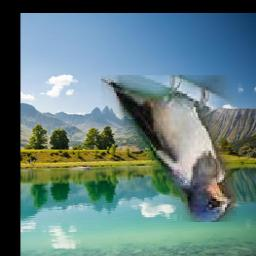Swallow: (102, 76, 238, 223)
